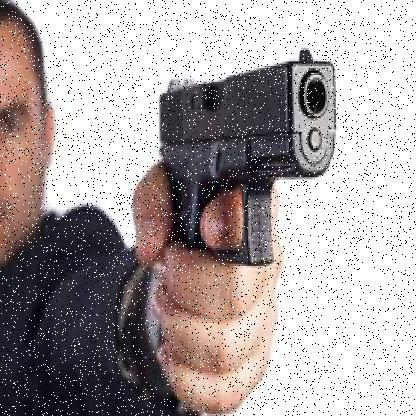pistol: (129, 41, 341, 380)
